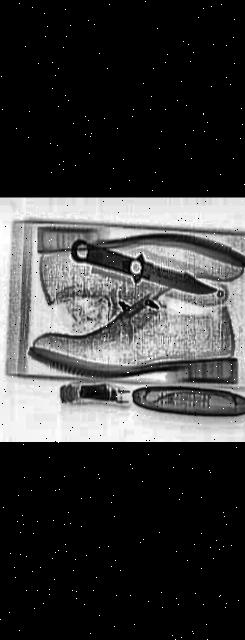Knife: (49, 235, 238, 300)
